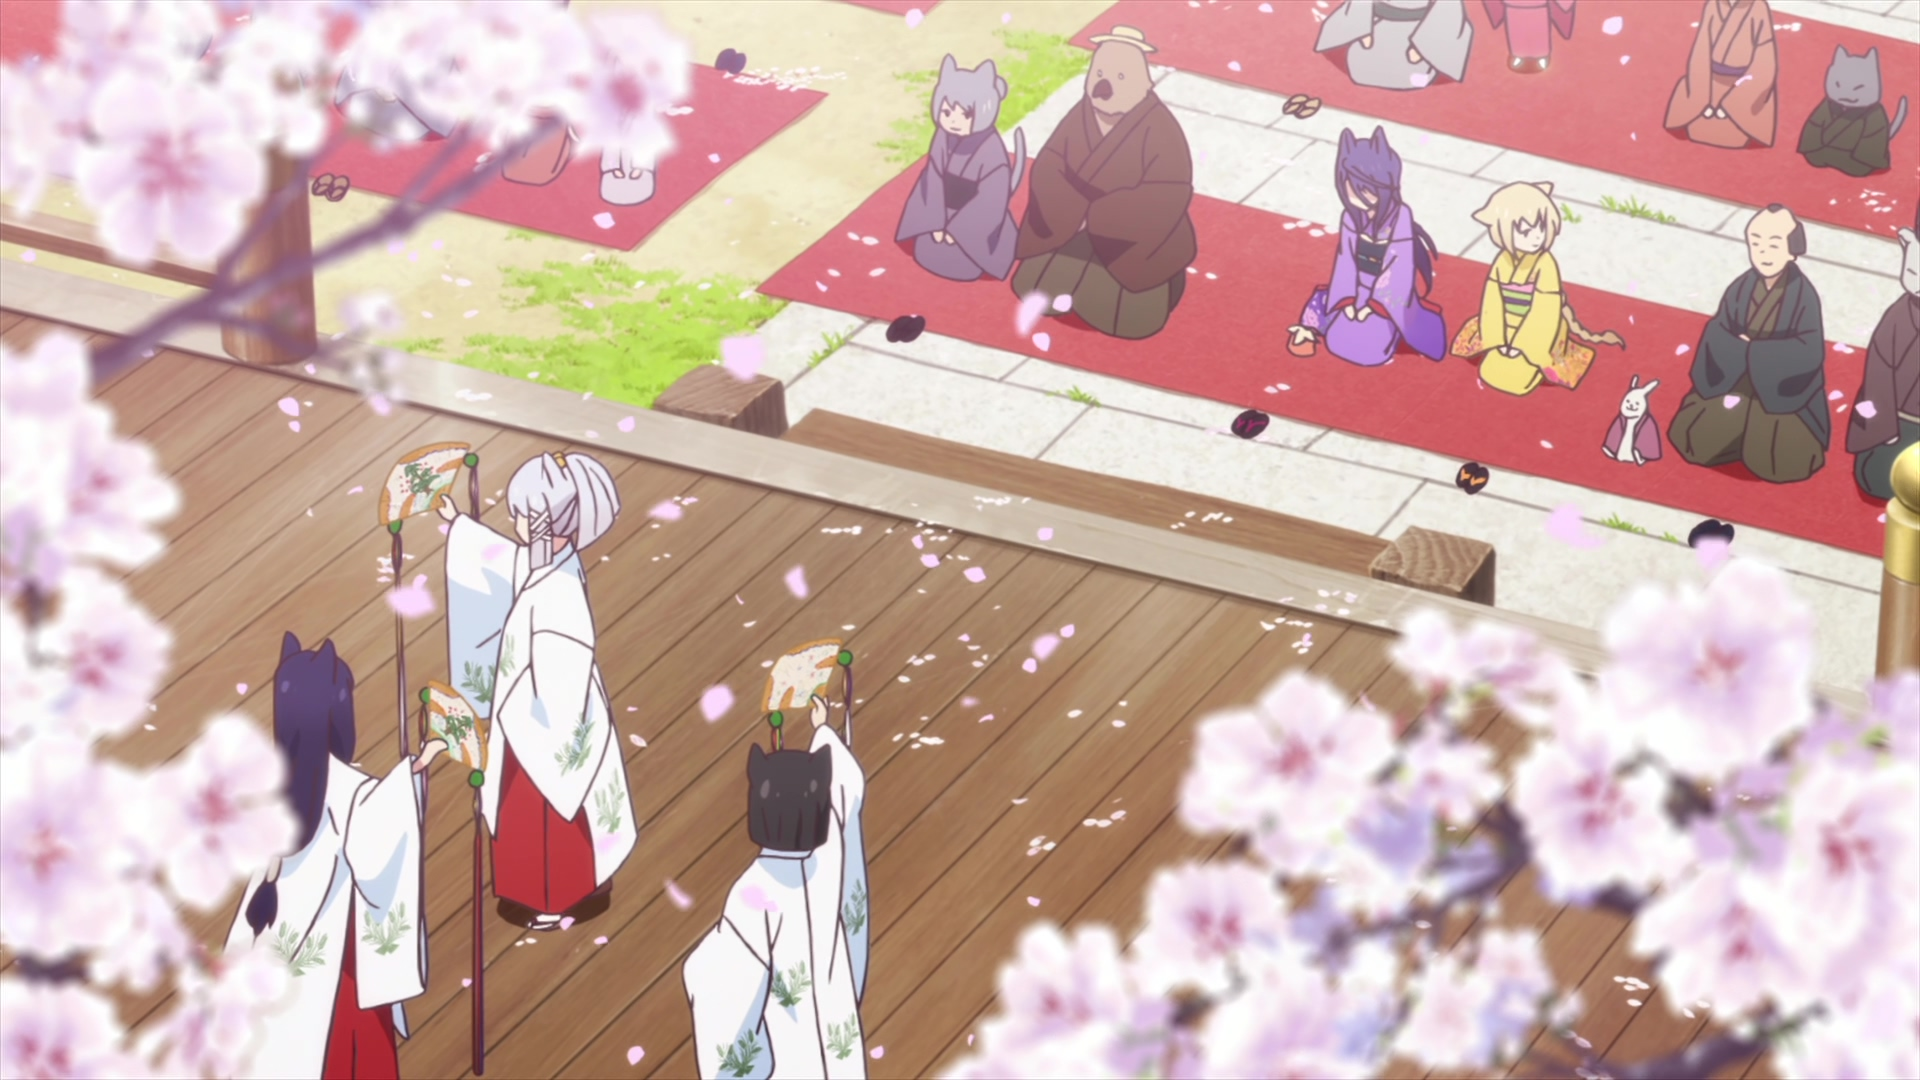其他: (682, 694, 870, 1080), (1014, 26, 1197, 339), (1669, 204, 1832, 480), (897, 58, 1022, 278), (1847, 228, 1920, 504), (1664, 1, 1778, 154), (1796, 46, 1907, 178), (1316, 1, 1474, 94), (1480, 1, 1578, 76), (1600, 376, 1660, 463), (599, 127, 659, 208)
柊: (435, 452, 641, 930)
柚: (1449, 185, 1625, 394)
皋: (1291, 128, 1447, 361)
菖: (222, 632, 448, 1080)
